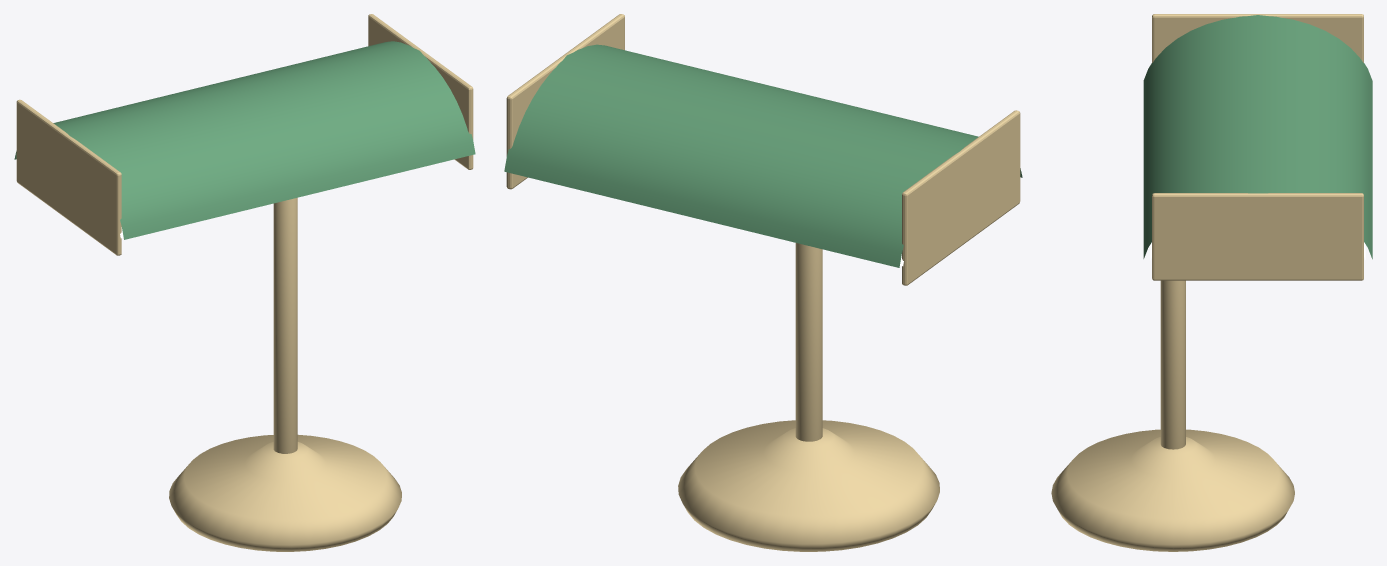
The model's file is banker_lamp.glb.
3 renders of one model, left to right at view 1: azimuth 30°, elevation 25°; view 2: azimuth 150°, elevation 25°; view 3: azimuth 270°, elevation 25°, orthographic. The views are drawn at different scales.
Visible parts, largest first — view 1: banker_lamp; view 2: banker_lamp; view 3: banker_lamp.
Part boxes in pixels (x1=…): banker_lamp: x1=14, y1=14, x2=475, y2=551; banker_lamp: x1=504, y1=14, x2=1022, y2=551; banker_lamp: x1=1051, y1=14, x2=1372, y2=551.
Bounding box in the file's own units: 0.406 × 0.415 × 0.3031.
